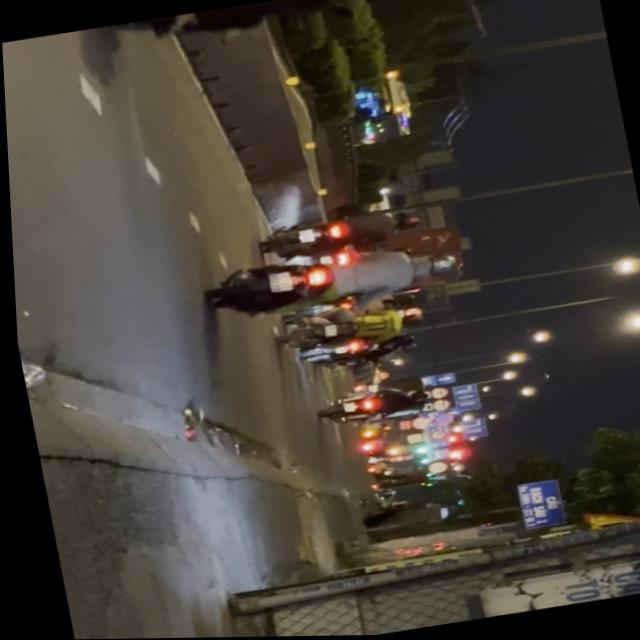helmet: (408, 247, 460, 282)
licenseplate: (199, 231, 468, 328)
nohelmet: (265, 270, 292, 292)
